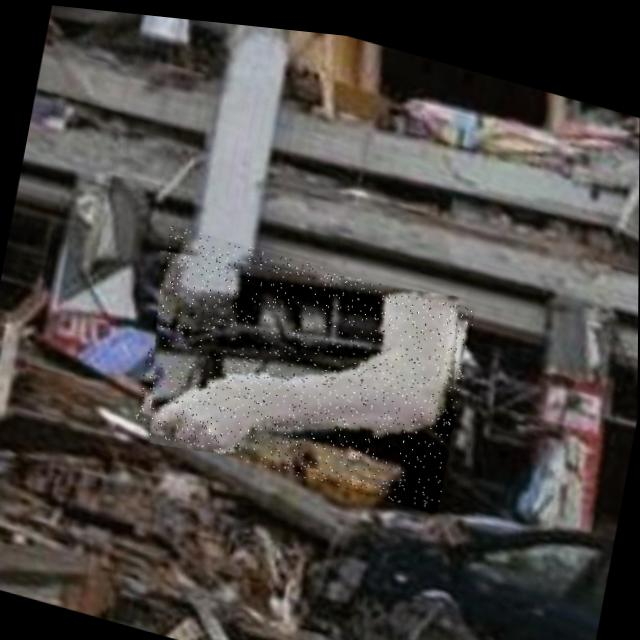Person in Rubble: (133, 218, 475, 508)
